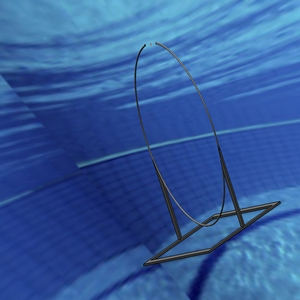circle: (131, 36, 279, 265)
